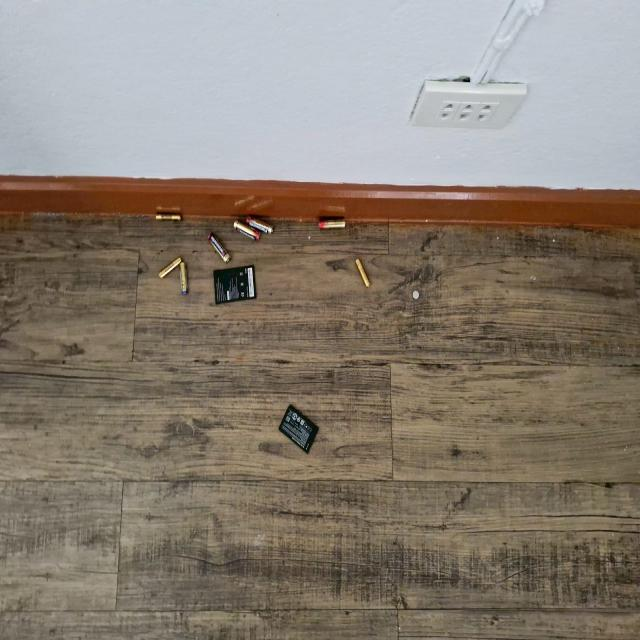battery: (277, 399, 322, 456), (213, 262, 257, 307), (205, 230, 233, 264), (244, 212, 276, 236), (352, 257, 374, 291), (233, 219, 261, 244), (157, 256, 183, 278), (318, 216, 350, 232), (179, 262, 189, 296), (154, 213, 184, 223), (411, 286, 422, 302)
